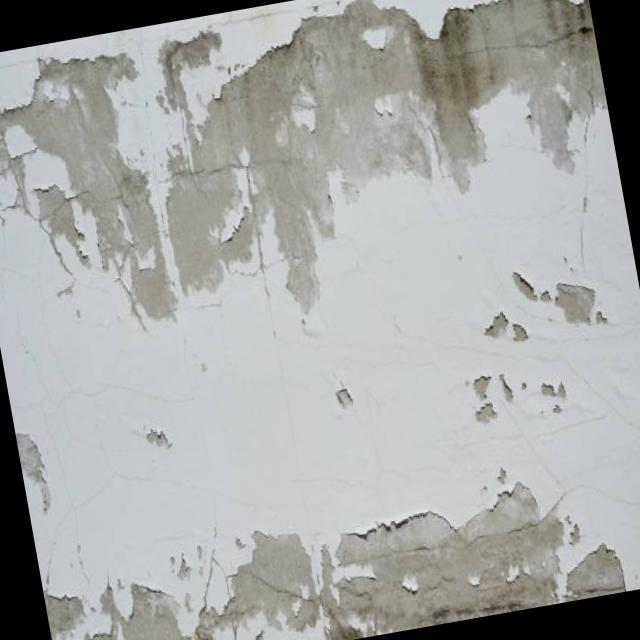crack: (437, 17, 595, 64), (155, 146, 291, 189)
